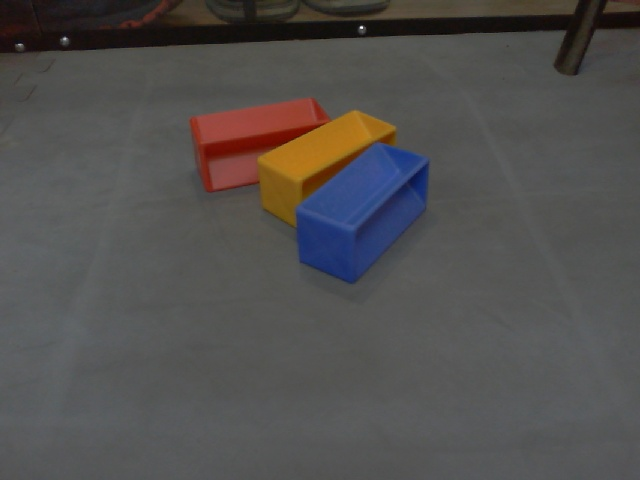BlueSample: (292, 140, 429, 286)
RedSample: (191, 96, 336, 192)
YellowSample: (257, 107, 394, 223)
